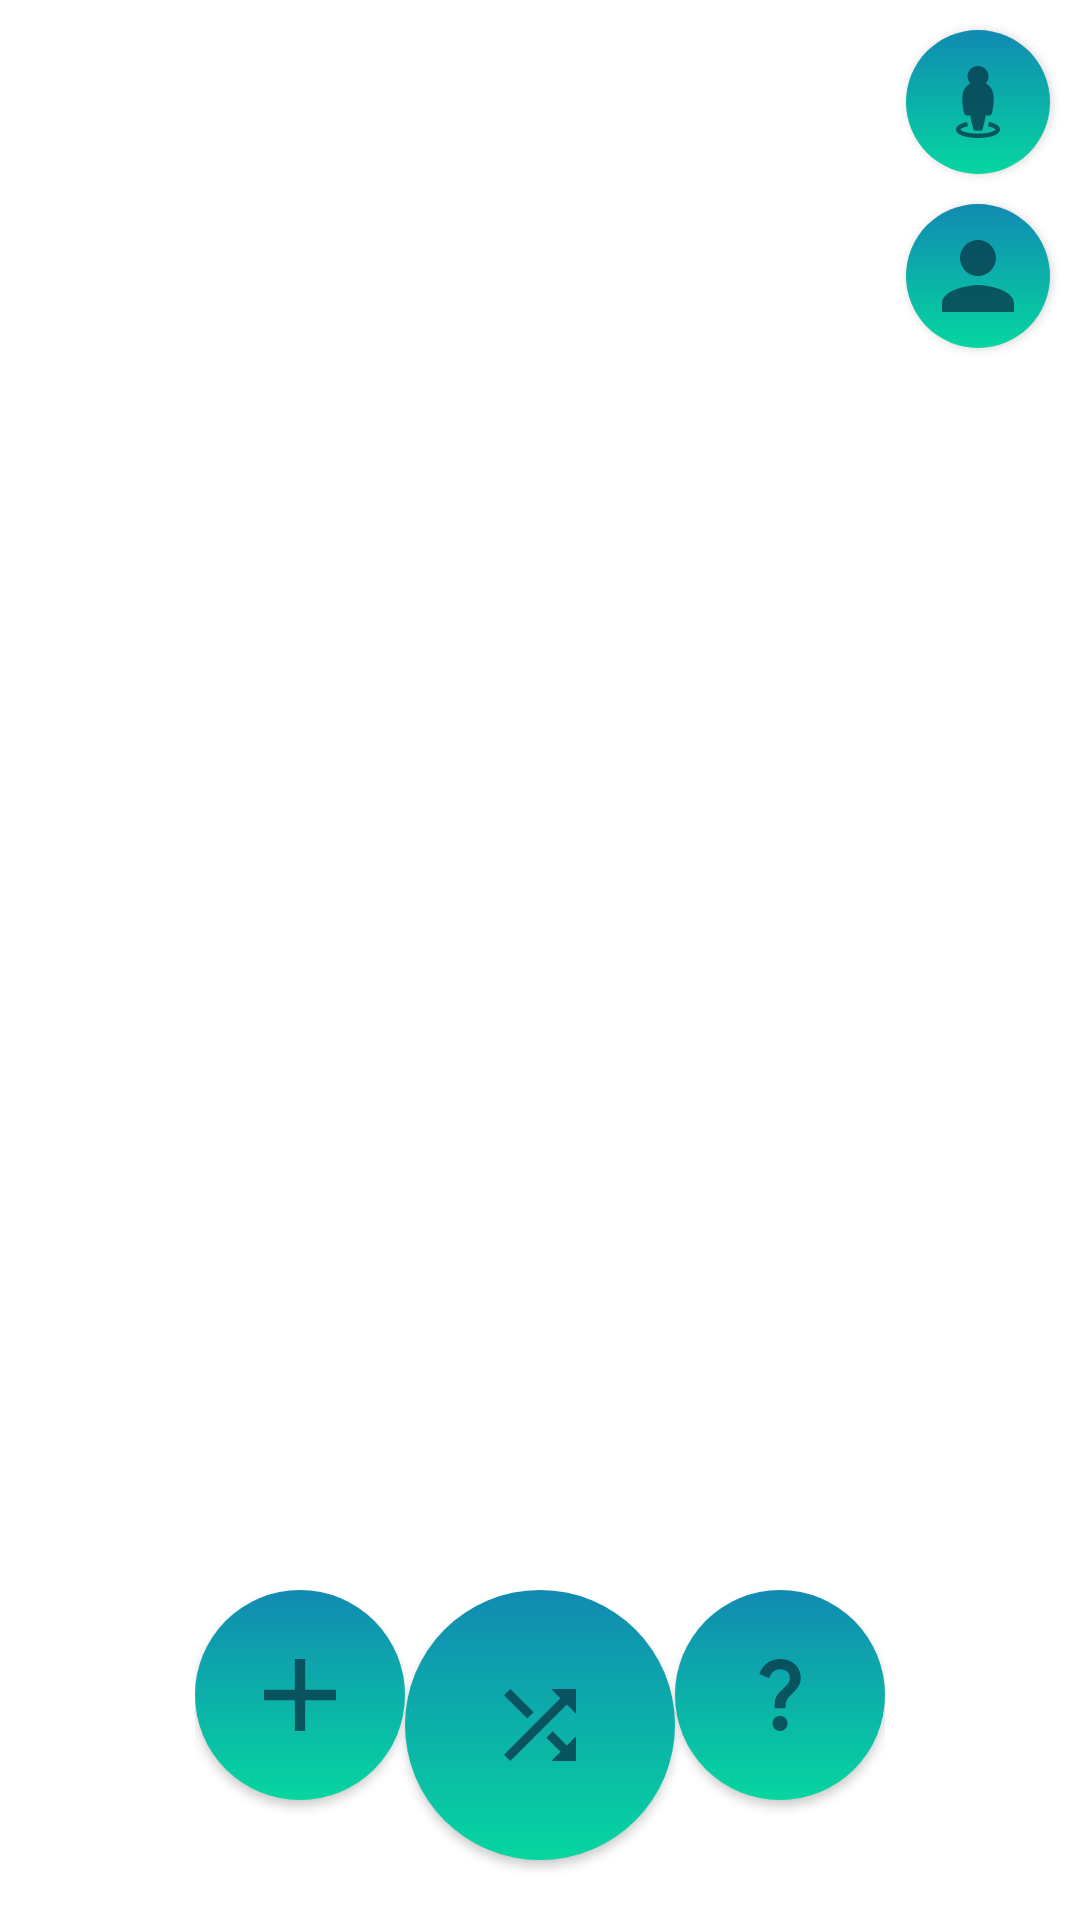

Icons on this 1080px×1920px Android screen, each with the point to tap as point (x, y):
Center Camera: point (978, 102)
New Event: point (300, 1695)
Random Event: point (540, 1725)
User Profile: point (978, 276)
